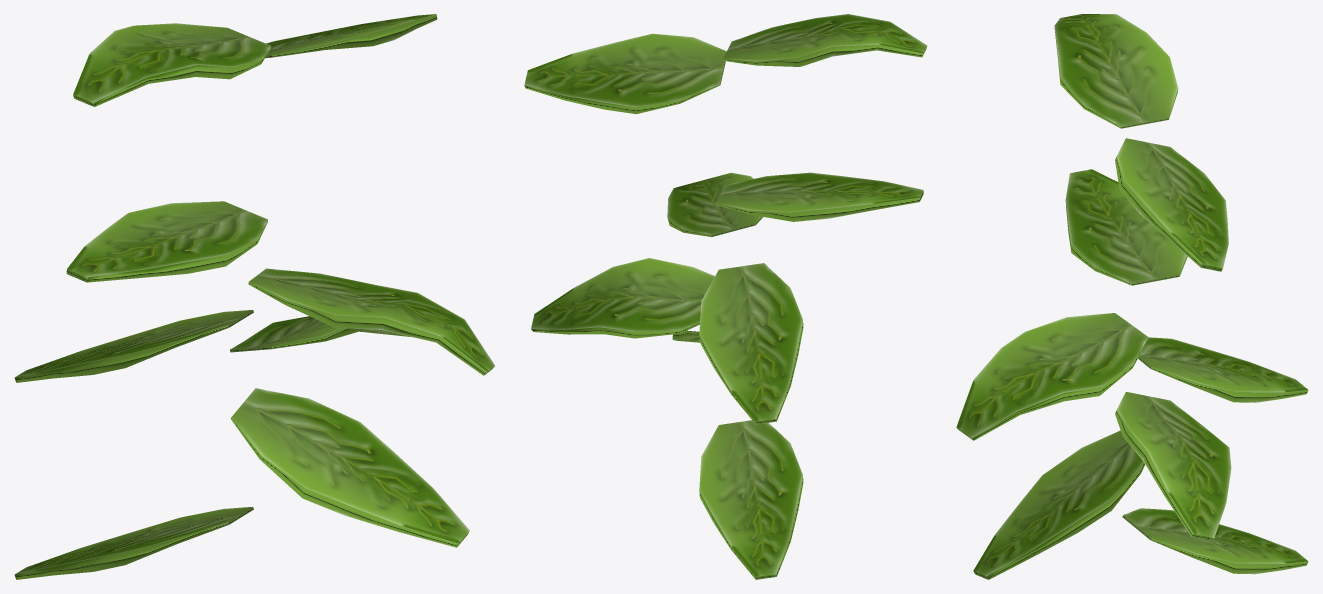
File: Leaves.fbx
3 views of the same model, side by side, from view 1: azimuth 30°, elevation 25°; view 2: azimuth 150°, elevation 25°; view 3: azimuth 270°, elevation 25° (orthographic). The views are drawn at different scales.
Visible parts, largest first — view 1: Leaves; view 2: Leaves; view 3: Leaves.
Part boxes in pixels (bbox=[...]): Leaves: bbox=[14, 14, 494, 579]; Leaves: bbox=[524, 14, 927, 579]; Leaves: bbox=[956, 14, 1308, 579].
Size of the model in its own units: 32.04 by 43.13 by 25.91.
